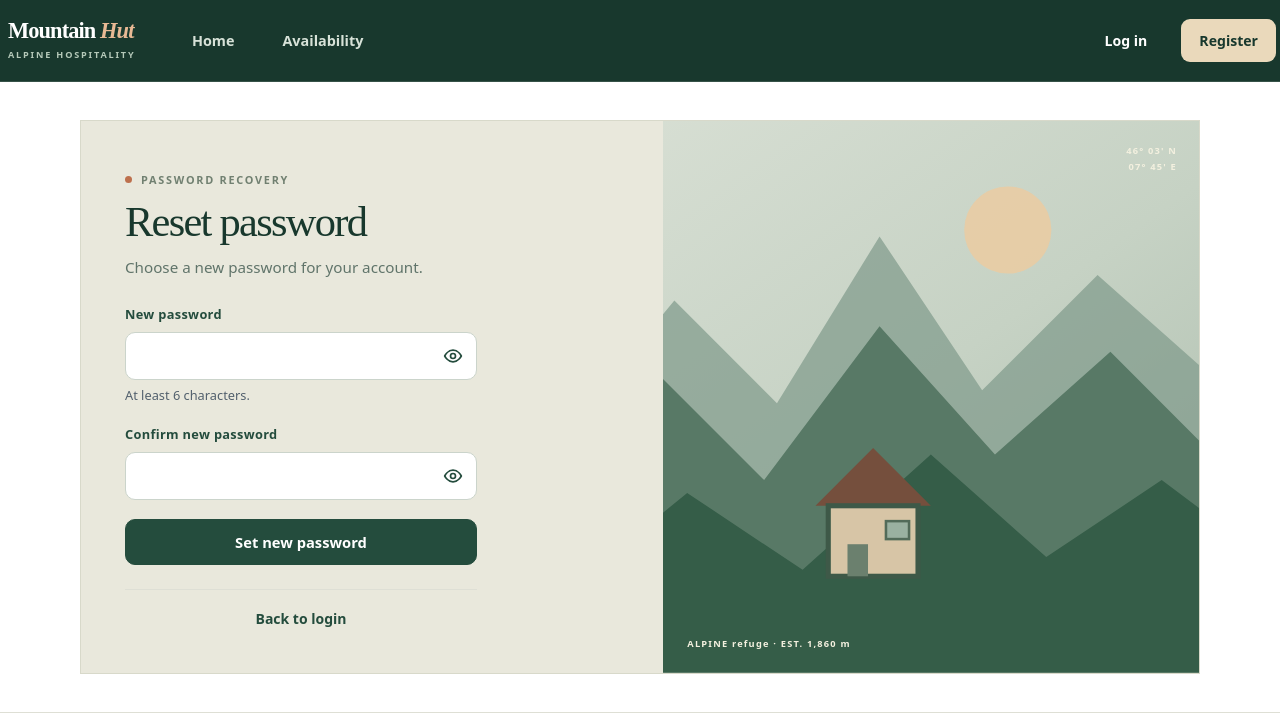
reset password › with a valid token sets the new password
This screenshot has width=1280, height=720.
Type "newpass1" into the password field labelled "New password" at (301, 356), box [125,332,477,380]
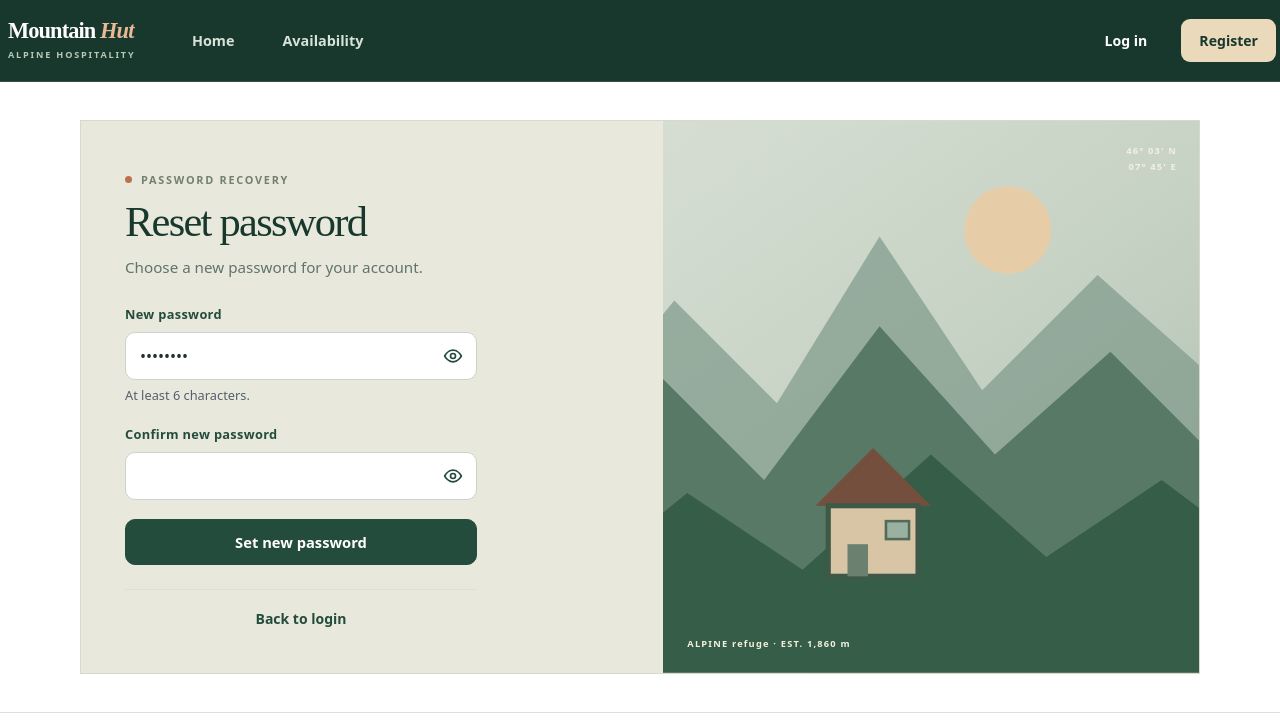
Type "newpass1" into the password field labelled "Confirm new password" at (301, 476), box [125,452,477,500]
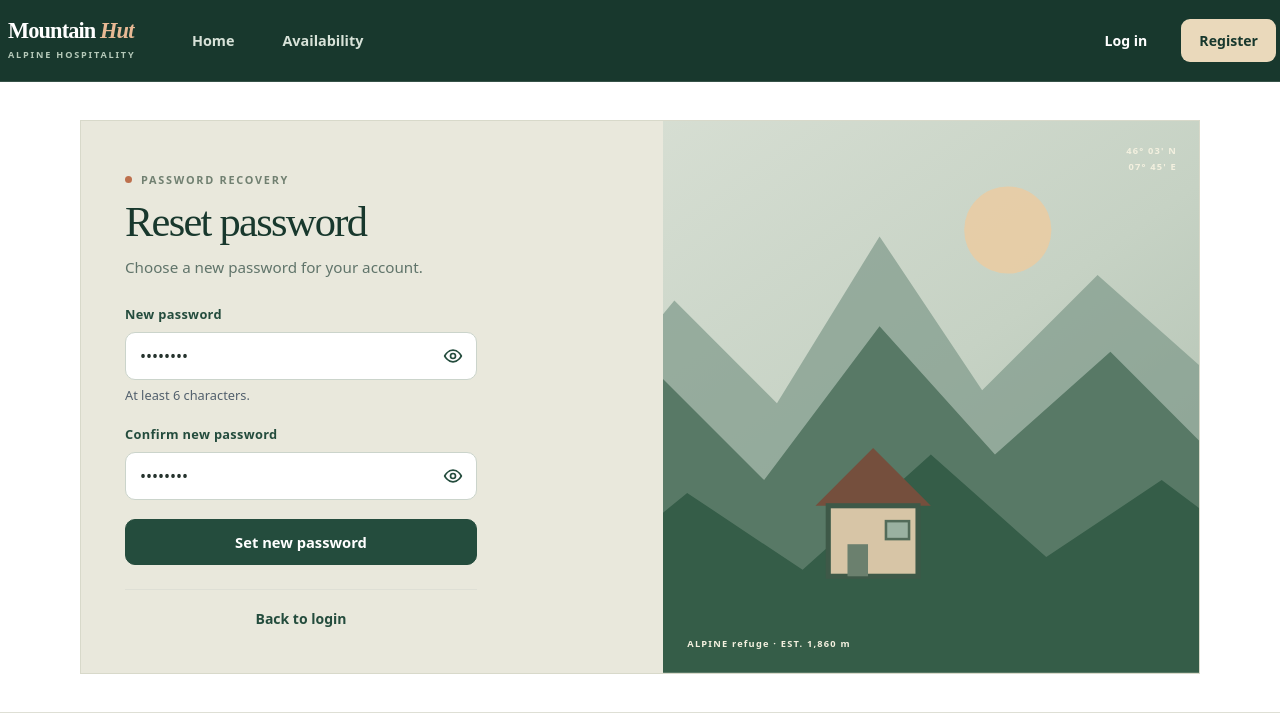
Click the button "Set new password" at (301, 542), box [125,519,477,565]
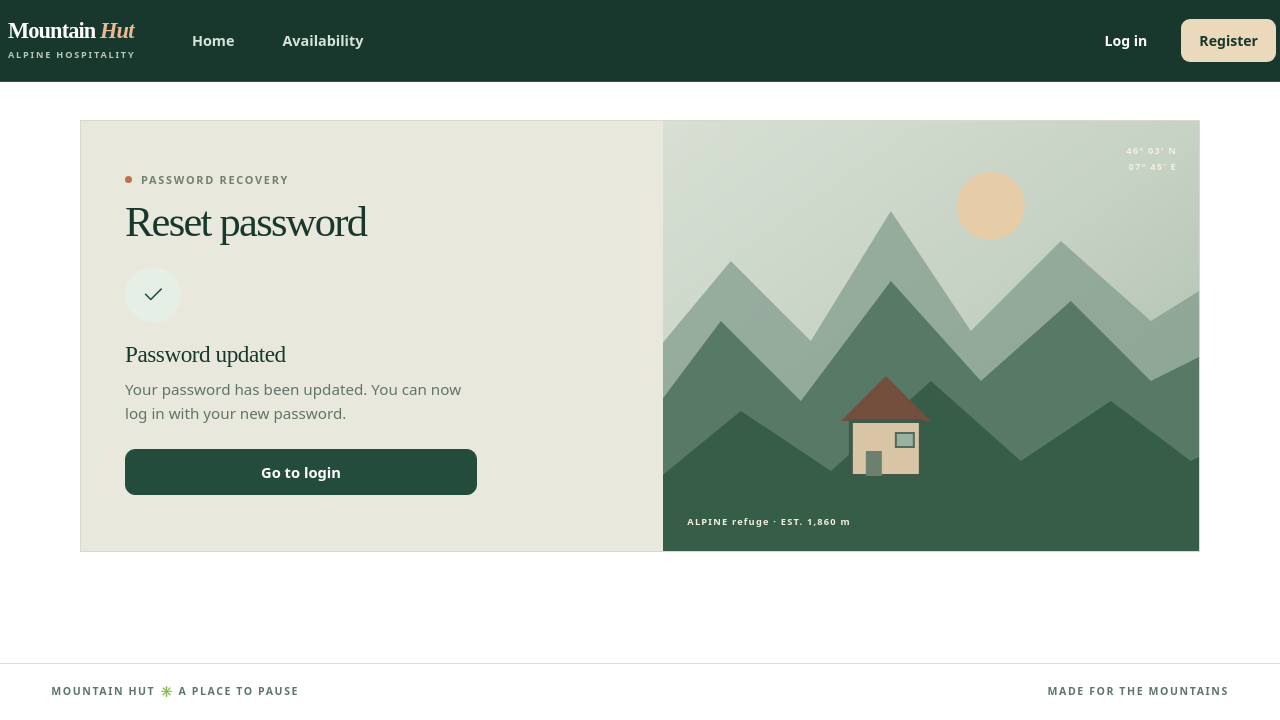
expect the message shows "Your password has been updated": met, box [125,379,461,423]
